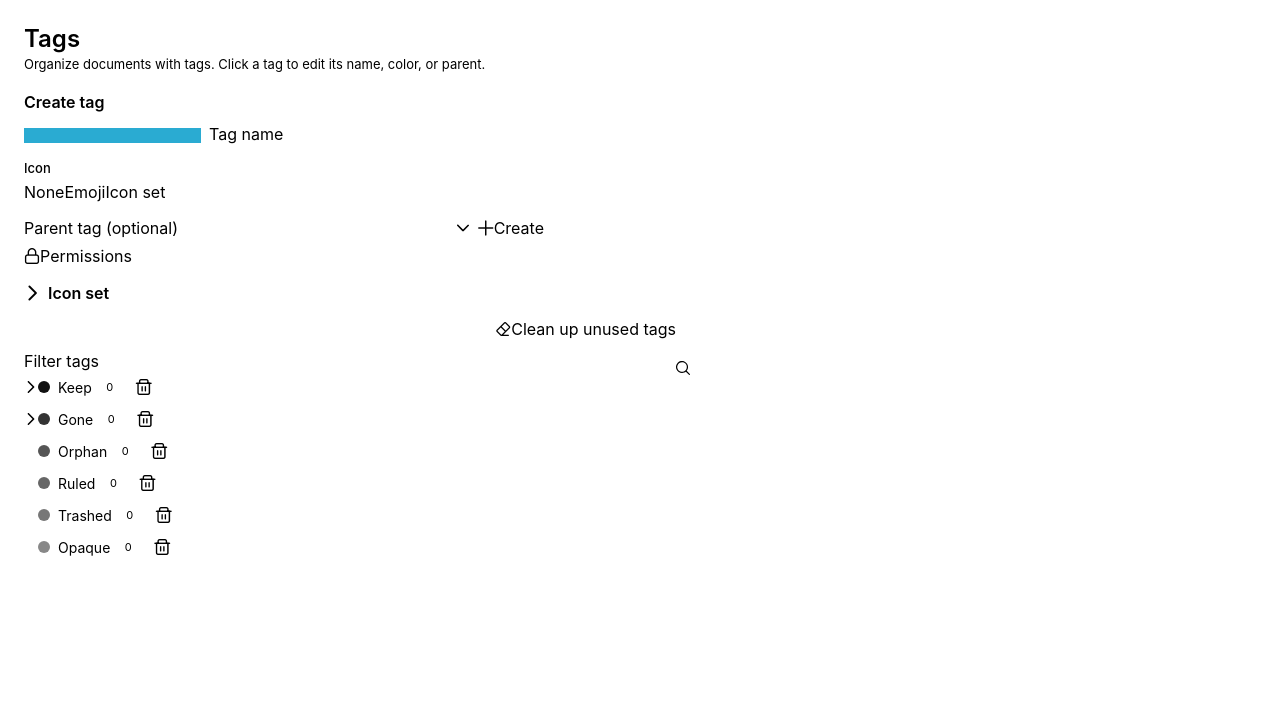
TagList — deleting unused tags from the management tree (#298 parts 1 and 2) › deletes the unused tags only on an explicit confirm, and reports exactly what went
Click the button with class "tag-cleanup-btn". click: (586, 329)
box: [495, 319, 676, 339]
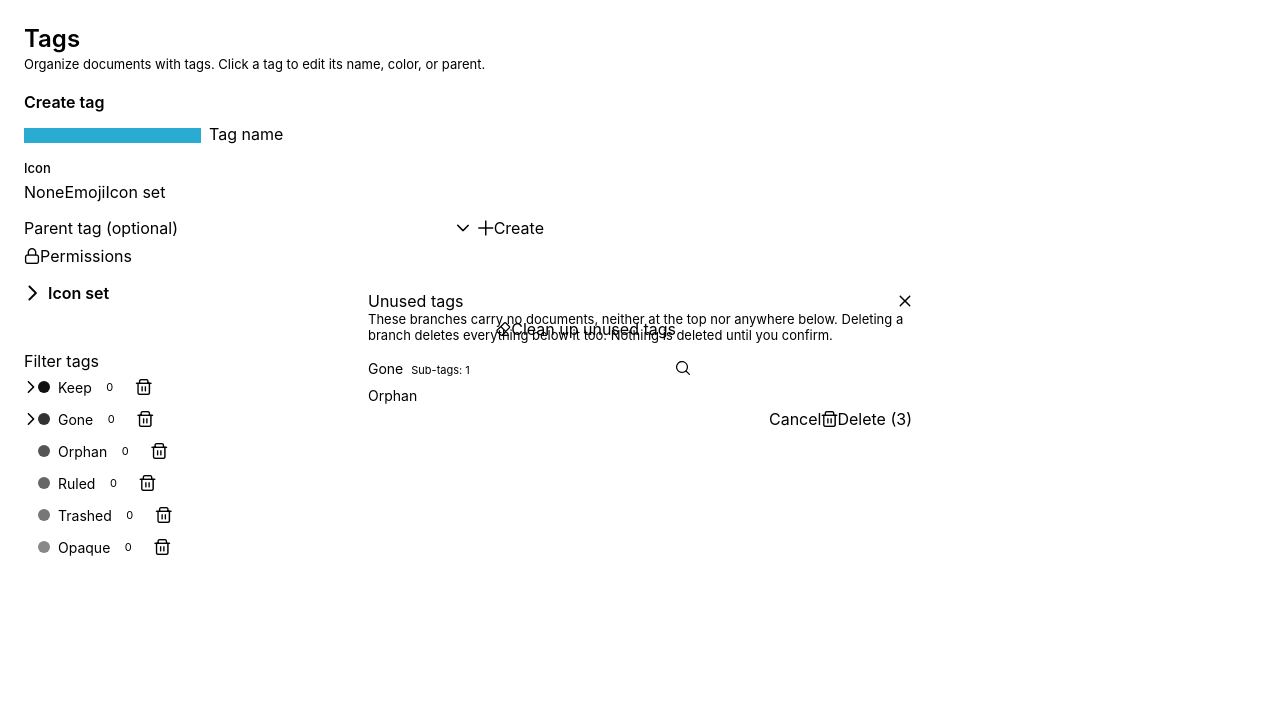
Expected: the button with class "cleanup-confirm-btn" is shown
Expected: the button with class "cleanup-confirm-btn" shows "3"
Click the button with class "cleanup-confirm-btn". click: (867, 419)
box: [822, 409, 912, 429]
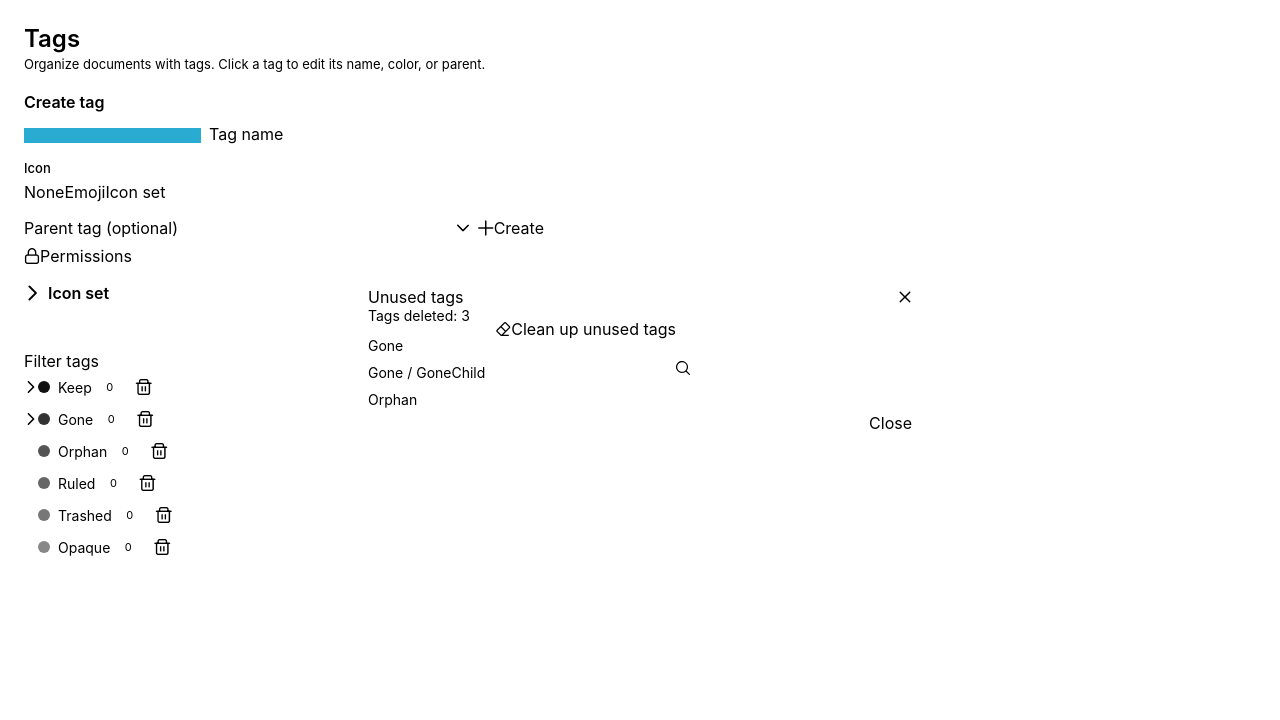
Expected: the element with class "cleanup-result" shows "Gone", [368, 337, 403, 354]
Expected: the element with class "cleanup-result" shows "GoneChild", [368, 364, 485, 381]
Expected: the element with class "cleanup-result" shows "Orphan", [368, 391, 417, 408]
